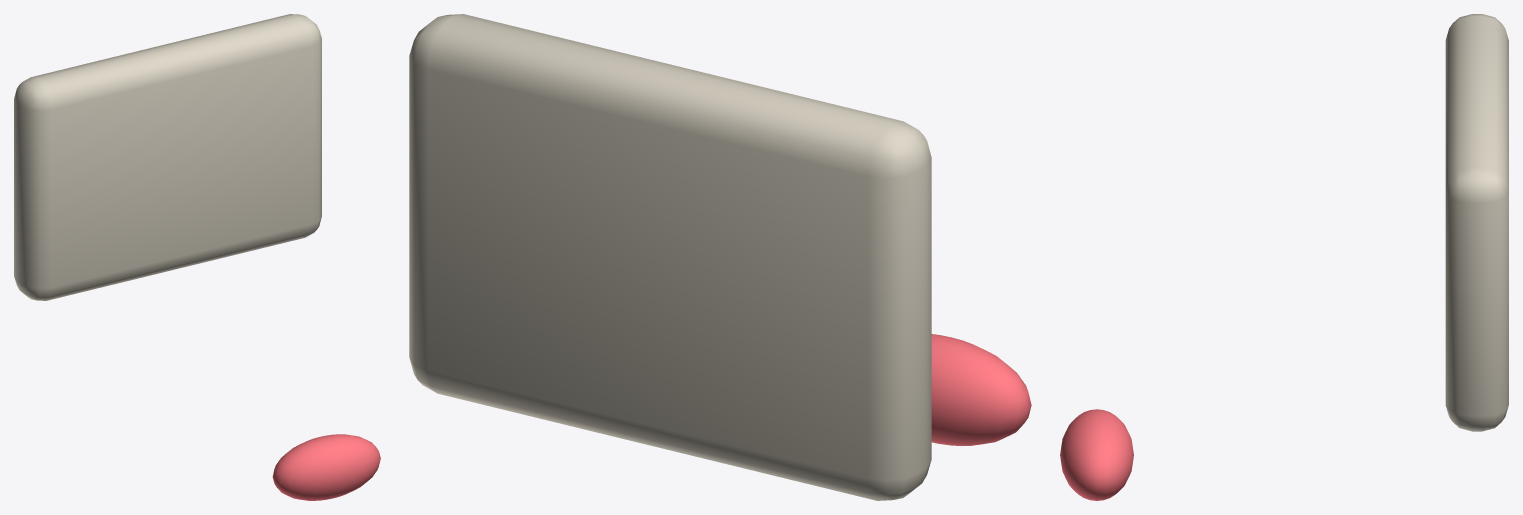
File: KibbleBagMoving_Premium.fbx
3 renders of one model, left to right at view 1: azimuth 30°, elevation 25°; view 2: azimuth 150°, elevation 25°; view 3: azimuth 270°, elevation 25°, orthographic. The views are drawn at different scales.
Visible parts, largest first — view 1: KibbleBag_Moving; view 2: KibbleBag_Moving; view 3: KibbleBag_Moving.
Boxes of the visible parts, bbox=[...] form: KibbleBag_Moving: bbox=[14, 14, 380, 500]; KibbleBag_Moving: bbox=[409, 14, 1031, 500]; KibbleBag_Moving: bbox=[1060, 14, 1508, 500].
Size of the model in its own units: 0.3542 by 0.377 by 0.3859.
